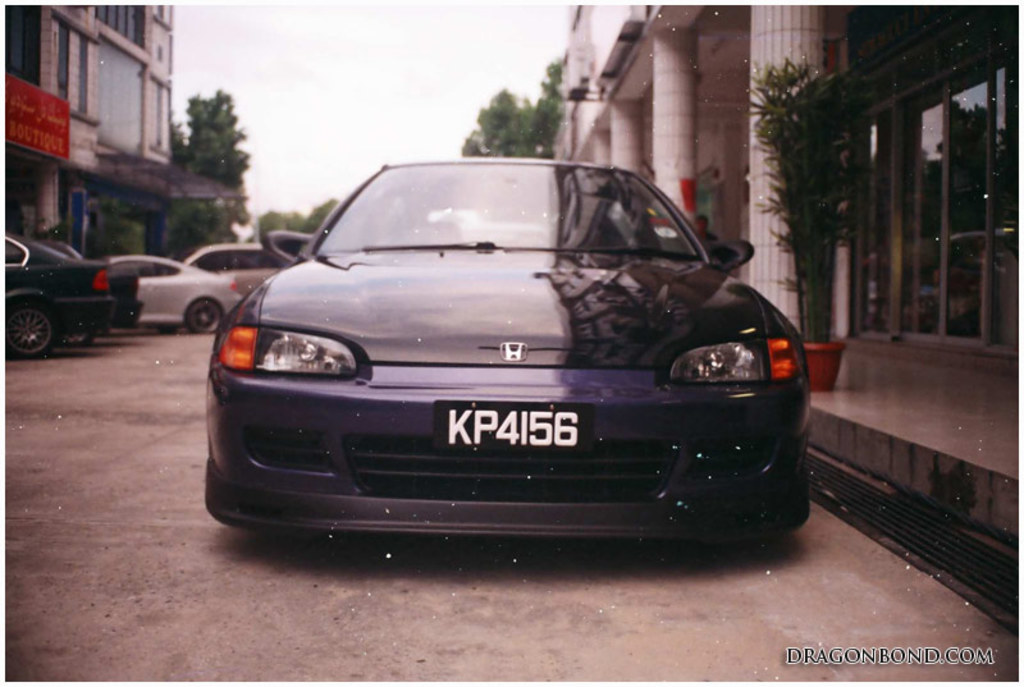Car: (204, 140, 788, 560), (0, 227, 113, 363), (33, 240, 143, 344), (102, 253, 239, 332), (172, 240, 282, 295)
